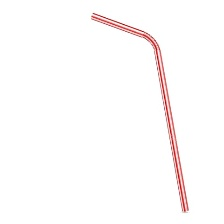drinking_straw: (85, 8, 195, 216)
